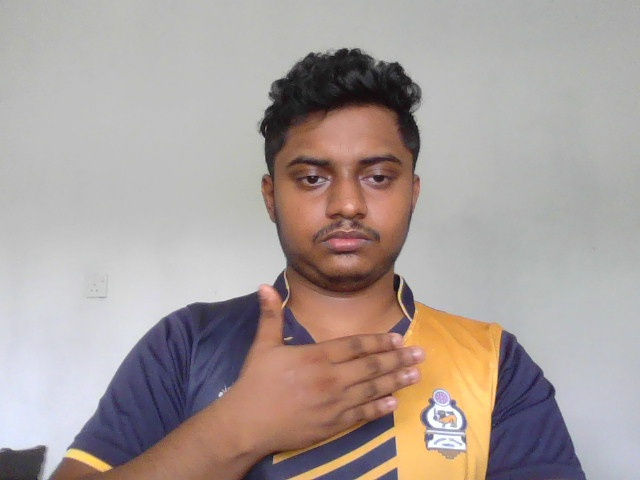Please: (207, 283, 427, 463)
